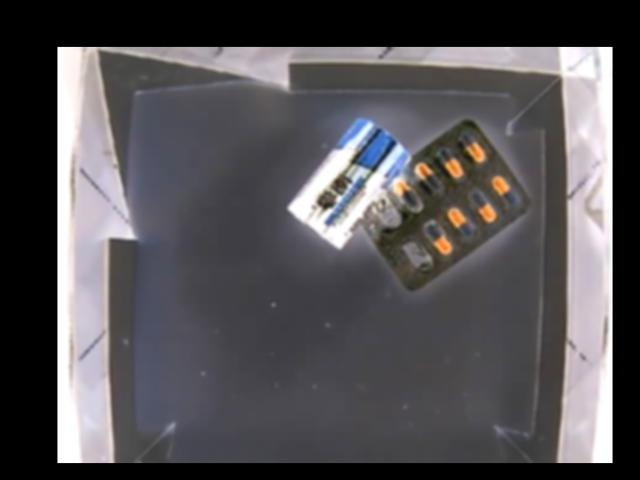Battery: (285, 117, 407, 252)
Medicine: (355, 117, 528, 290)
